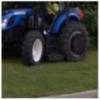tractors: (3, 2, 90, 66)
